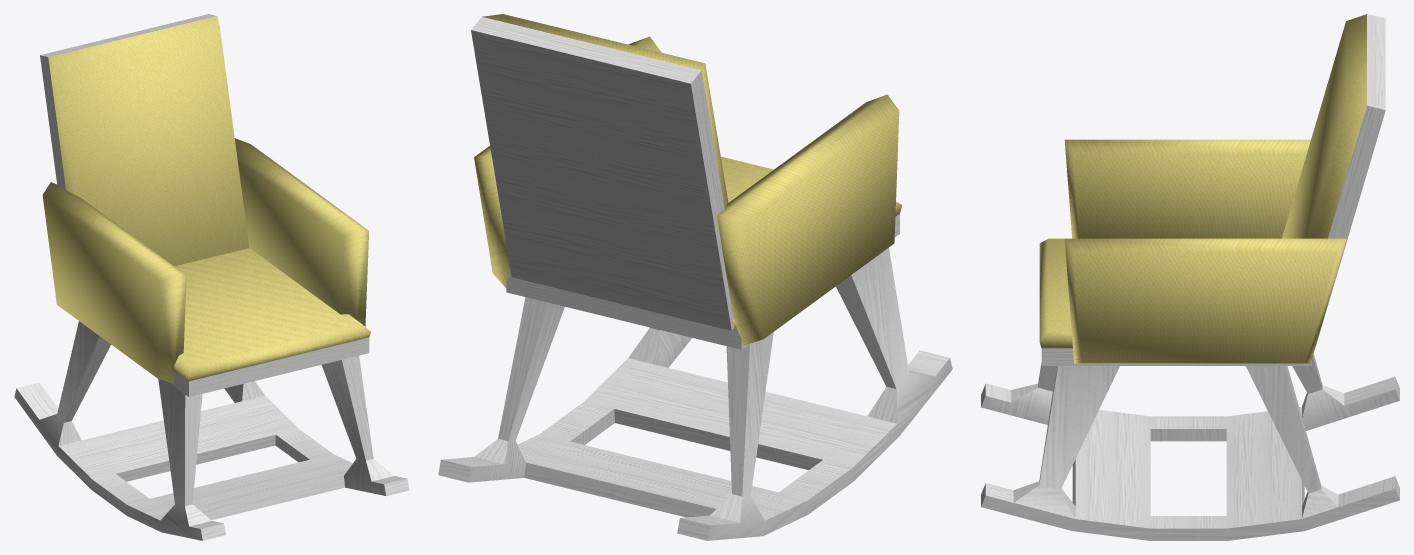
File: Rocker_D.FBX
3 renders of one model, left to right at view 1: azimuth 30°, elevation 25°; view 2: azimuth 150°, elevation 25°; view 3: azimuth 270°, elevation 25°, orthographic. The views are drawn at different scales.
Visible parts, largest first — view 1: Rocker; view 2: Rocker; view 3: Rocker.
Boxes of the visible parts, left/top/right/bottom form: Rocker: left=14, top=14, right=409, bottom=540; Rocker: left=438, top=14, right=952, bottom=540; Rocker: left=981, top=14, right=1399, bottom=540.
Bounding box in the file's own units: 99.55 × 175 × 156.
